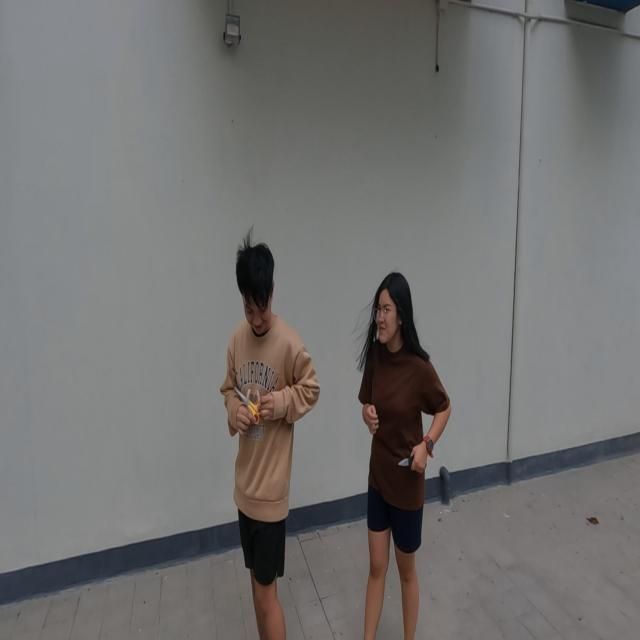scissor: (233, 385, 264, 425), (398, 457, 415, 467)
